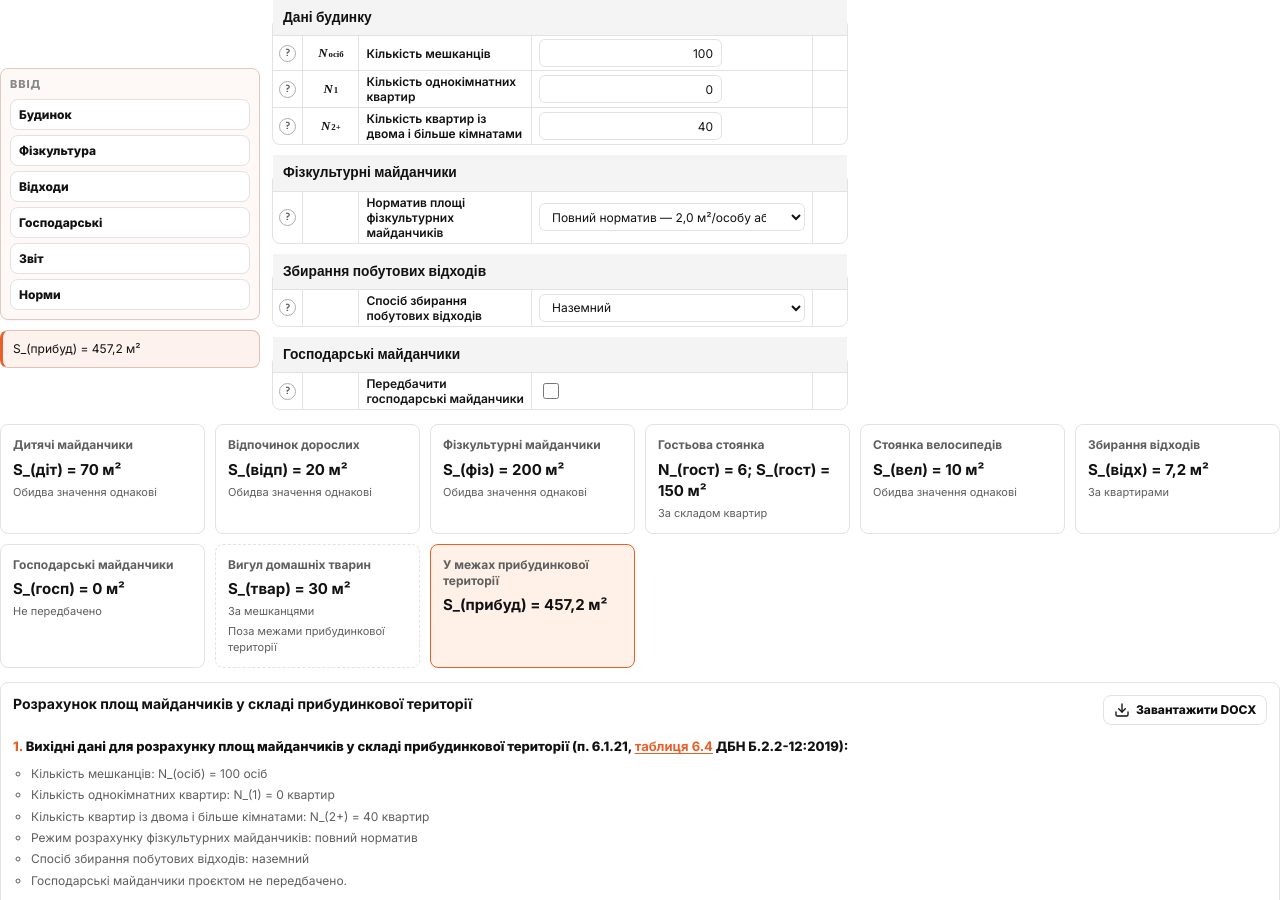
Test: ResidentialYardAreasCalculator › shows conditional fields and resets their values when controllers change
The width and height of the screenshot is (1280, 900).
expect the field labelled "Передбачена окрема озеленена фізкультурна зона" is not shown: met
Select "Зменшений норматив — 0,2 м²/особу або 0,5 м²/квартиру" in the dropdown labelled "Норматив площі фізкультурних майданчиків". click: (672, 217)
box: [539,203,805,231]
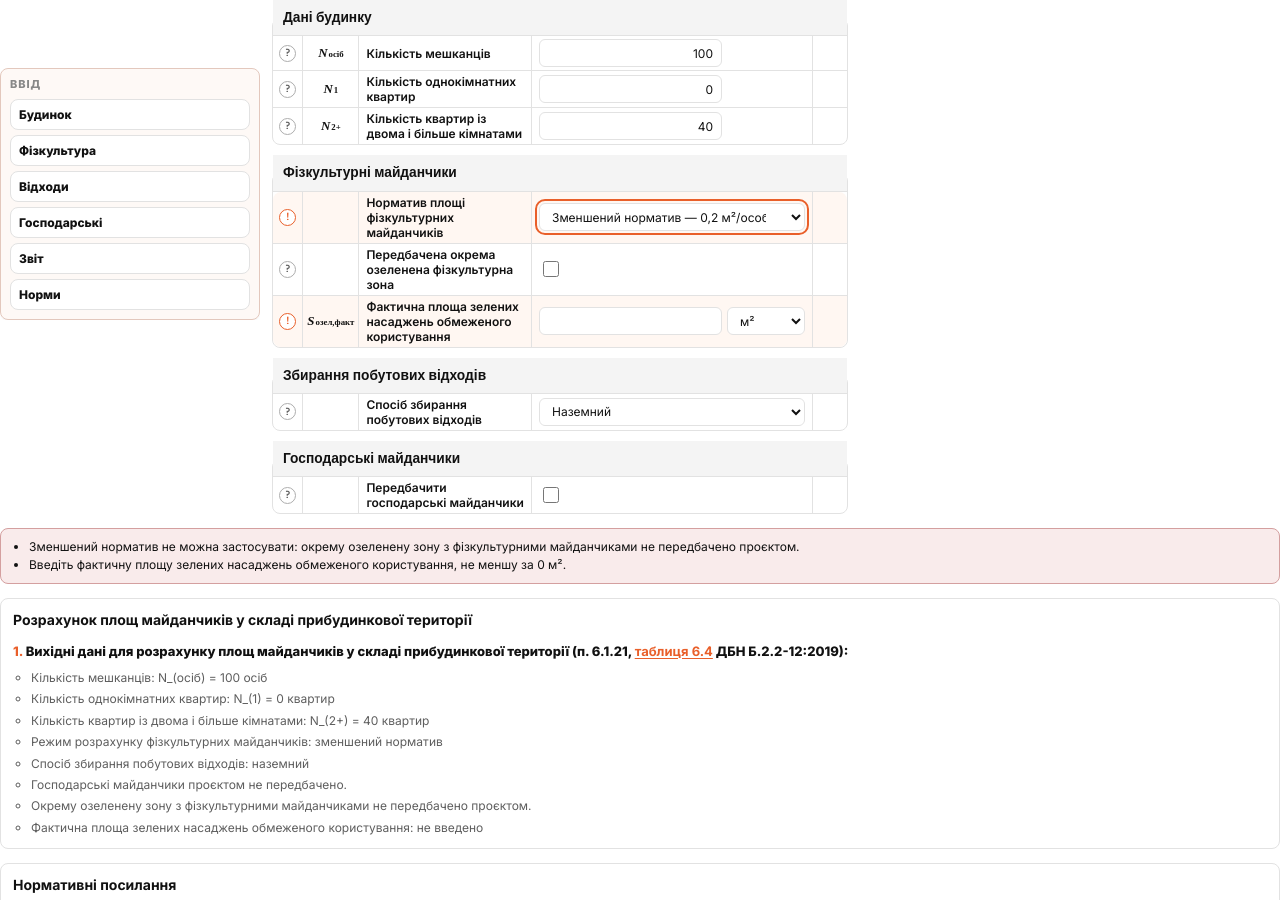
expect the field labelled "Фактична площа зелених насаджень обмеженого користування" is empty: met, box [539,307,722,335]
Click the checkbox named "Передбачена окрема озеленена фізкультурна зона". click: (551, 269)
box: [543,261,559,277]
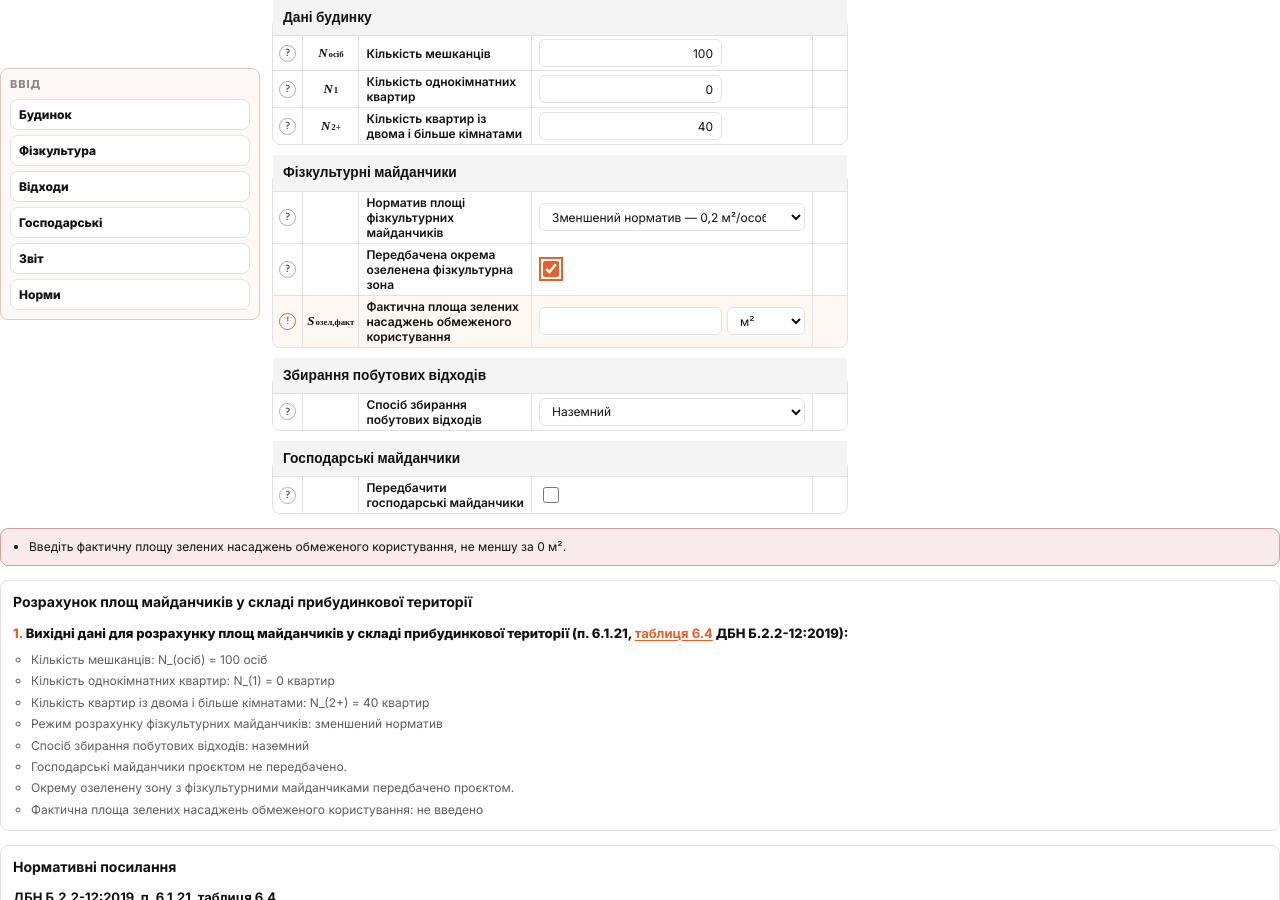
Type "600" into the field labelled "Фактична площа зелених насаджень обмеженого користування". click: (630, 321)
box: [539,307,722,335]
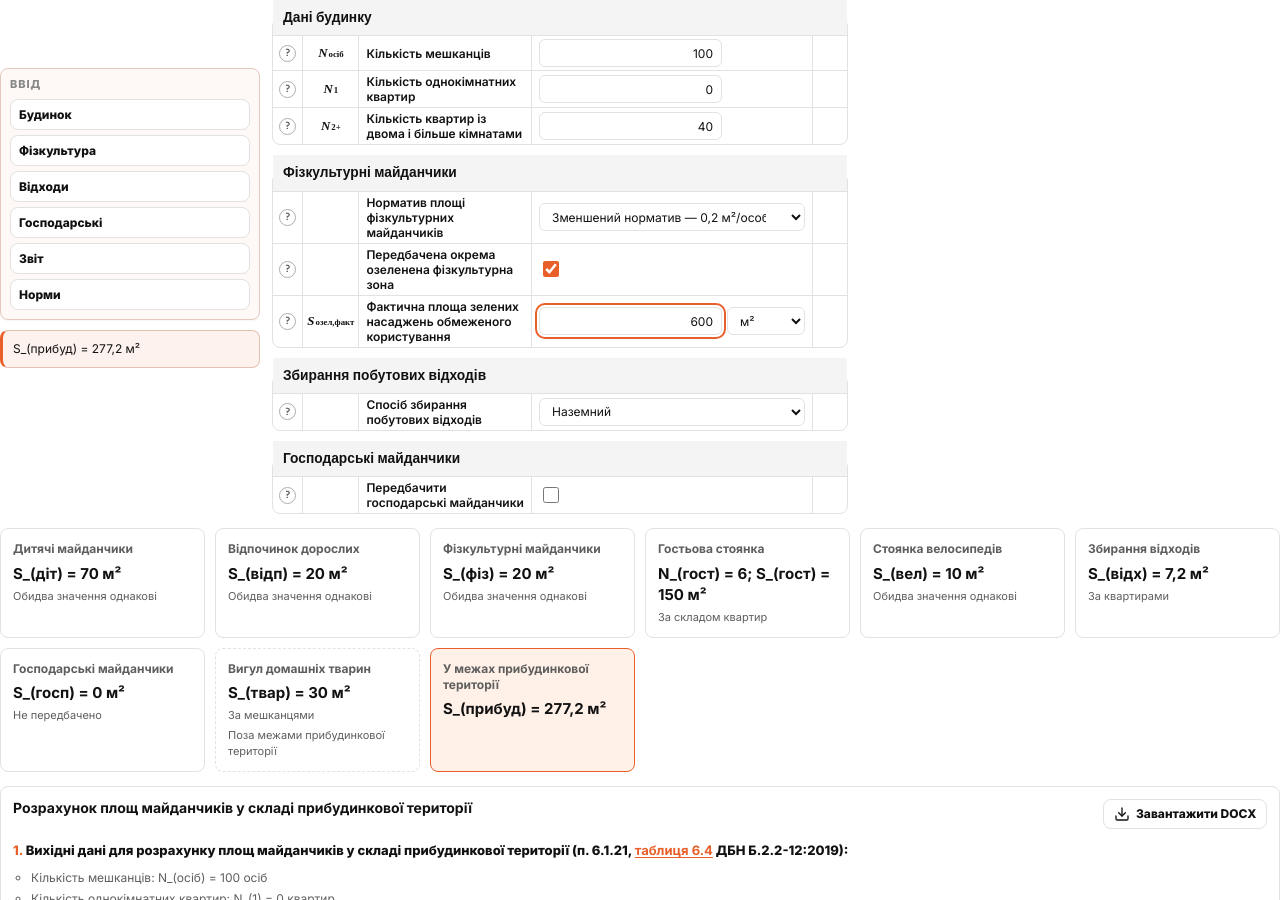
expect the checkbox named "Передбачена окрема озеленена фізкультурна зона" is checked: met, box [543,261,559,277]
Select "Повний норматив — 2,0 м²/особу або 5,0 м²/квартиру" in the dropdown labelled "Норматив площі фізкультурних майданчиків". click: (672, 217)
box: [539,203,805,231]
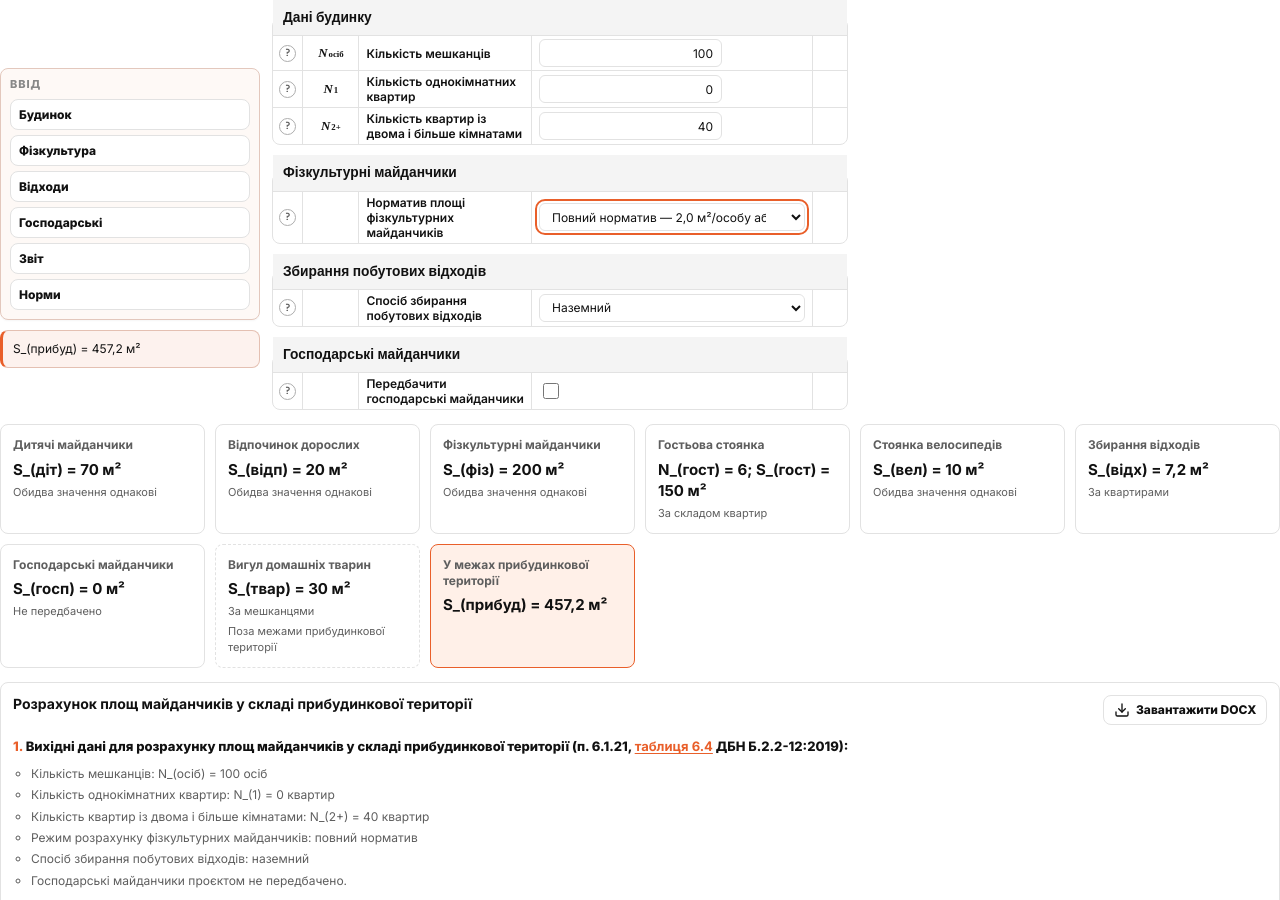
Select "Зменшений норматив — 0,2 м²/особу або 0,5 м²/квартиру" in the dropdown labelled "Норматив площі фізкультурних майданчиків". click: (672, 217)
box: [539,203,805,231]
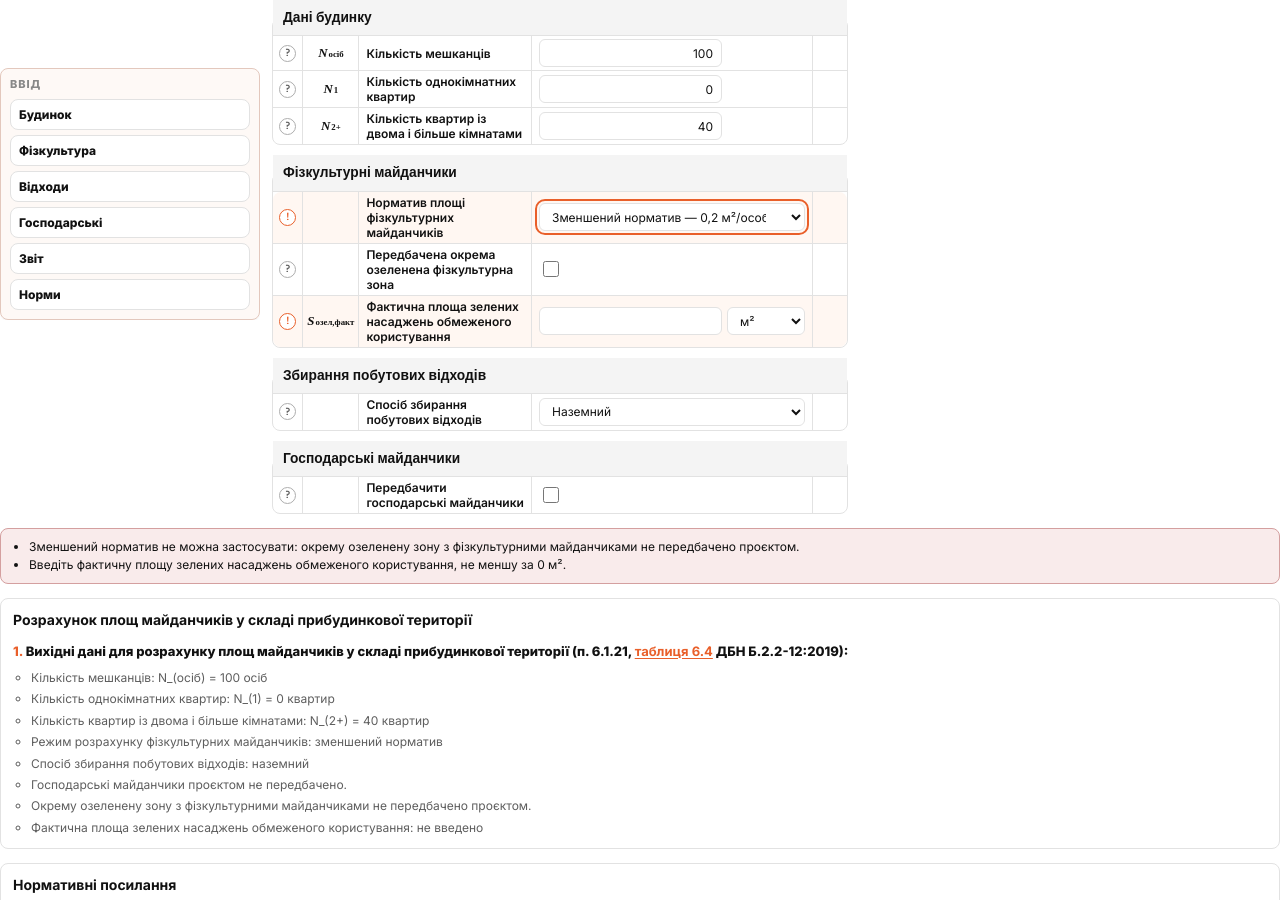
expect the checkbox named "Передбачена окрема озеленена фізкультурна зона" is not checked: met, box [543,261,559,277]
expect the field labelled "Фактична площа зелених насаджень обмеженого користування" is empty: met, box [539,307,722,335]
